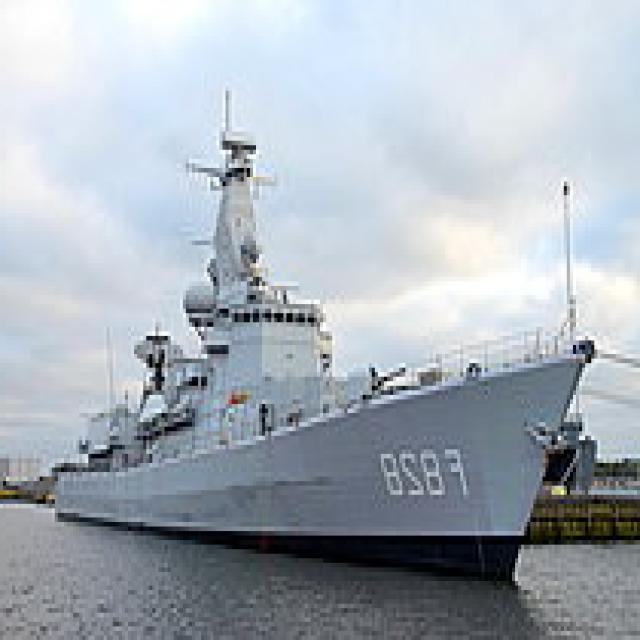Warship: (55, 77, 606, 581)
